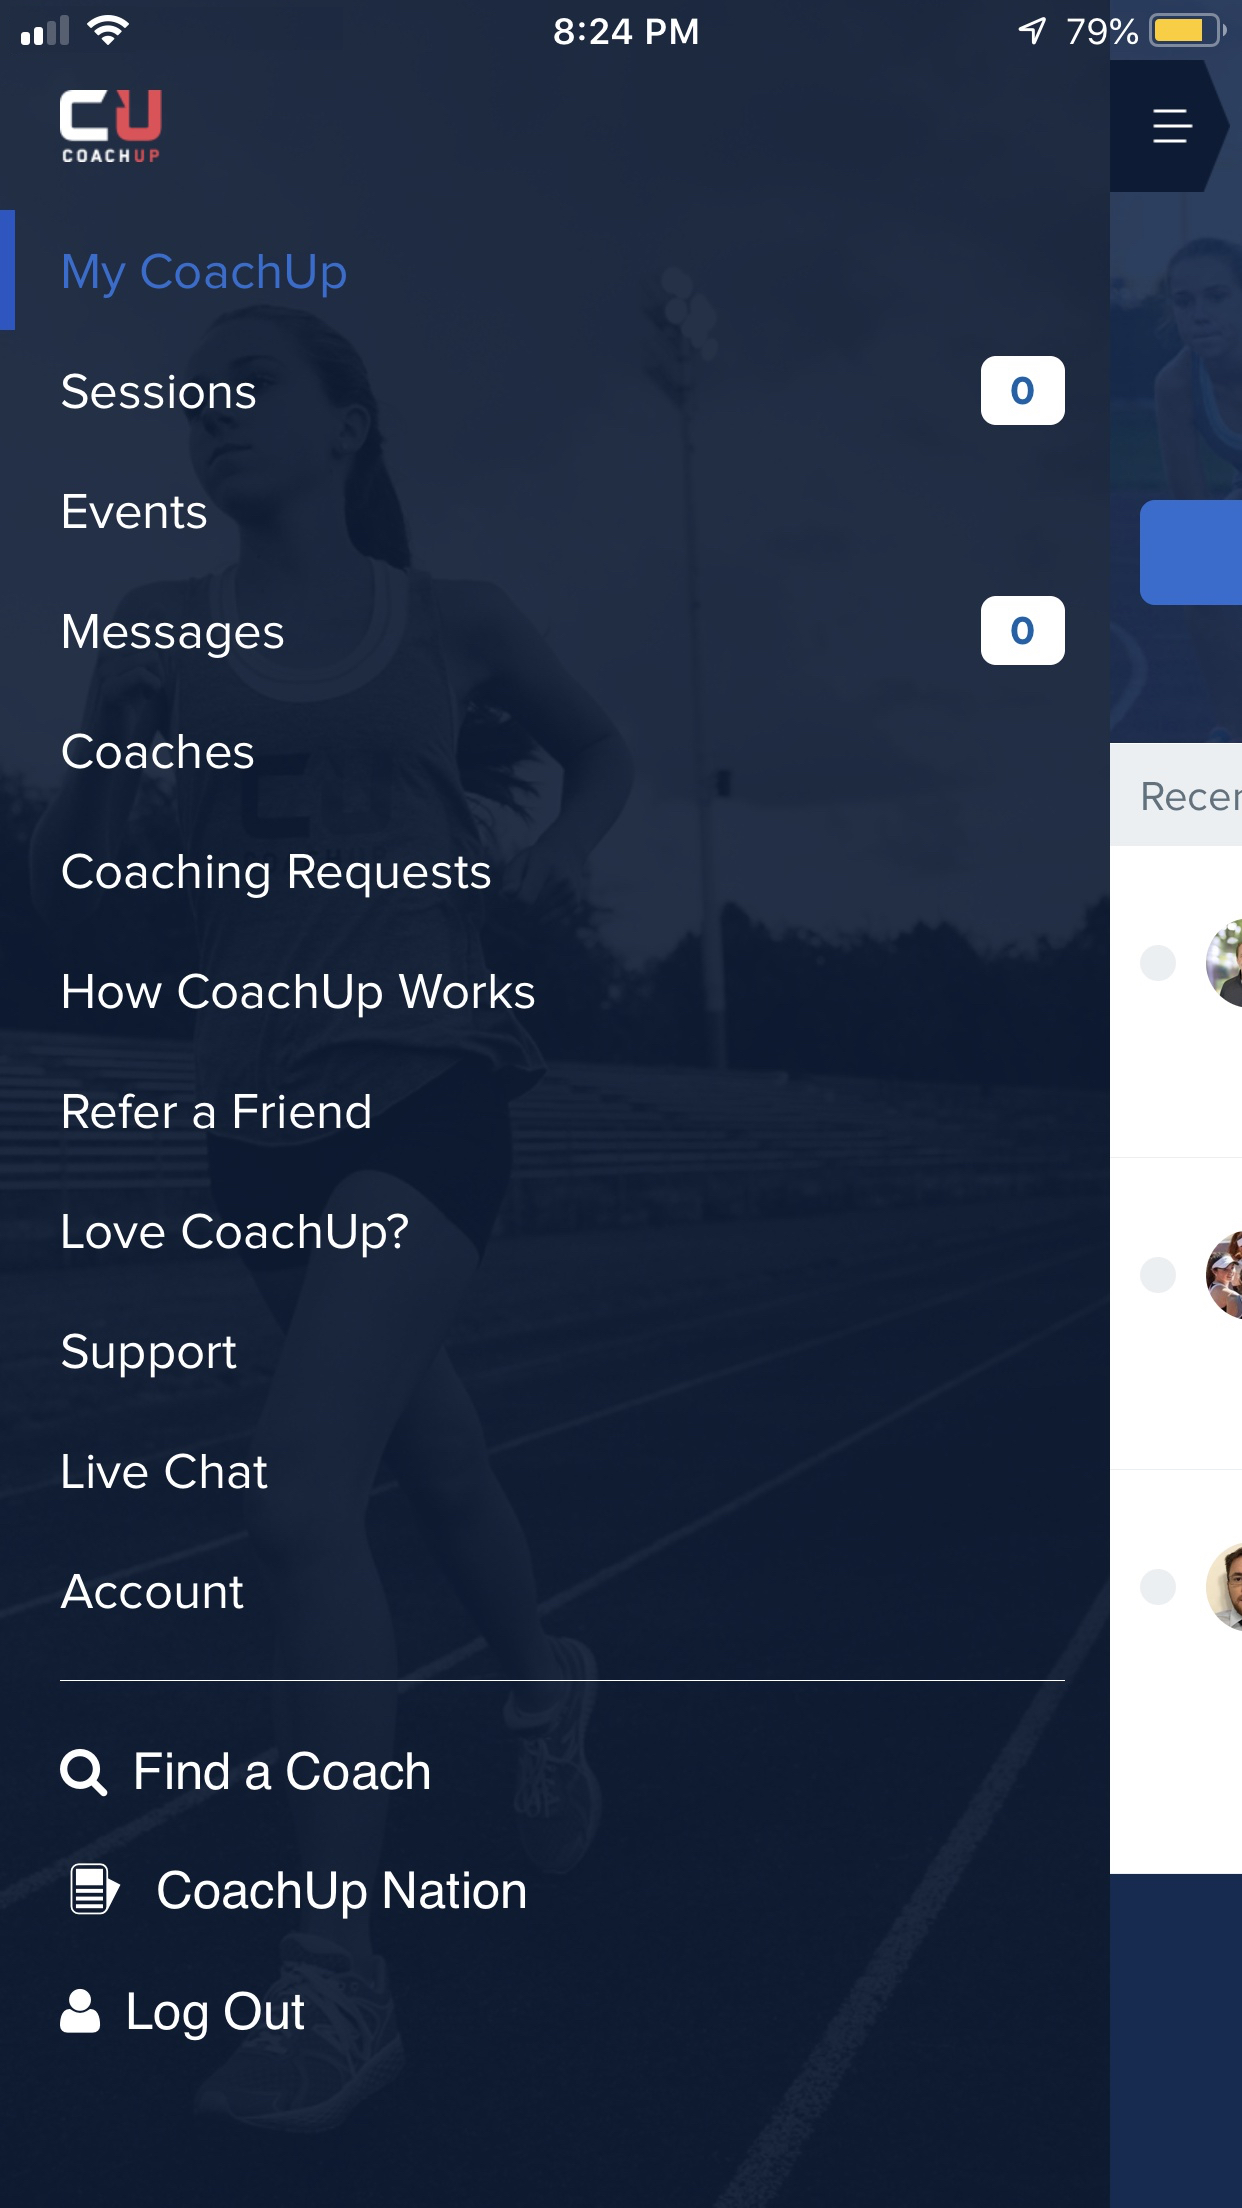Drawer: (2, 2, 1112, 2208)
Icon: (61, 1749, 111, 1799), (61, 1987, 102, 2034)
Image: (61, 89, 164, 164), (70, 1861, 123, 1915)
Text: (64, 972, 535, 1021), (62, 852, 491, 899), (158, 1868, 528, 1920), (64, 1212, 409, 1260), (64, 252, 347, 300), (64, 1092, 372, 1131), (136, 1752, 431, 1792), (64, 613, 285, 660), (127, 1990, 306, 2043), (62, 1331, 240, 1378), (62, 1451, 268, 1491), (62, 372, 256, 411), (62, 732, 255, 770), (61, 1573, 246, 1611), (64, 493, 208, 531), (1011, 378, 1036, 406), (1011, 617, 1034, 646)
UpperTaskBar: (2, 2, 1242, 52)
